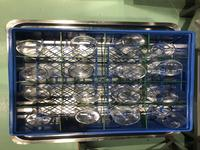Glass: (151, 109, 186, 128), (114, 33, 147, 52), (108, 107, 142, 125), (24, 108, 55, 127), (23, 84, 55, 102), (149, 60, 184, 76), (20, 65, 54, 81), (14, 40, 47, 56), (146, 88, 179, 104), (69, 36, 98, 54), (111, 88, 141, 105), (73, 86, 101, 103), (75, 106, 100, 124), (115, 65, 147, 79), (68, 64, 95, 78), (149, 43, 176, 57)
